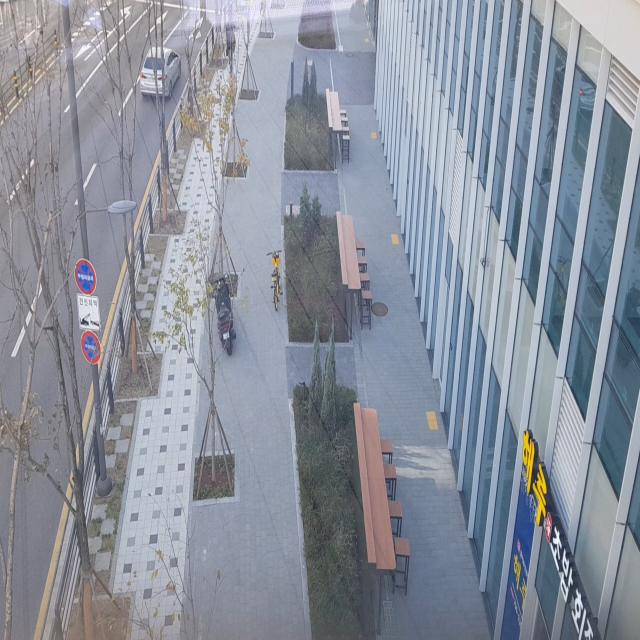Car: (136, 29, 190, 101)
